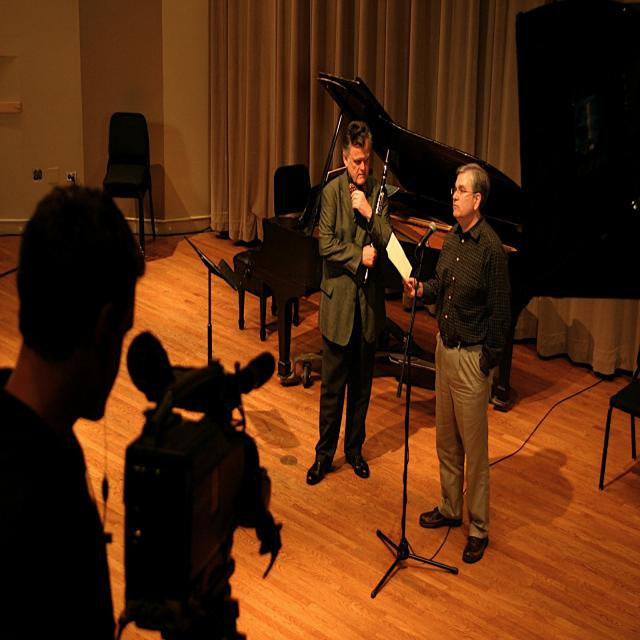clarinet: (359, 146, 392, 288)
